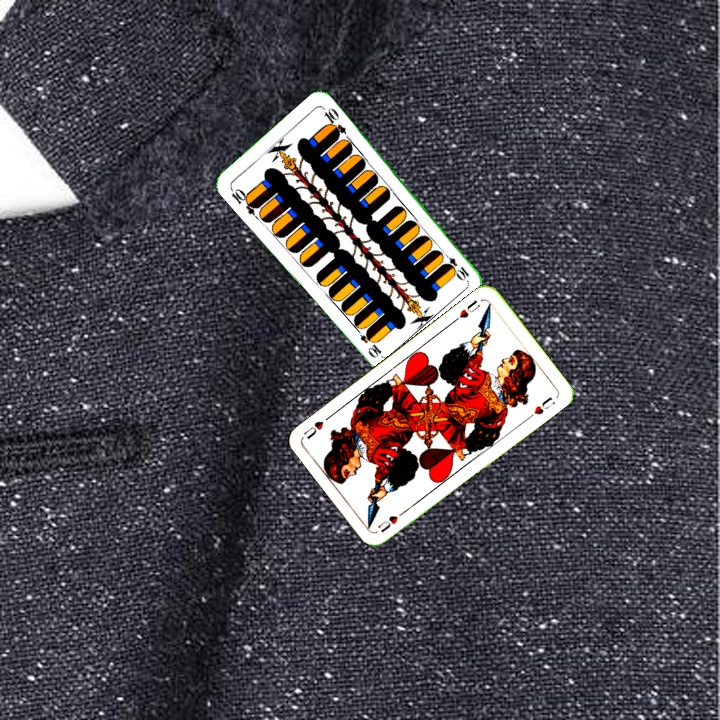E10: (438, 248, 472, 283), (226, 184, 261, 217)
HU: (373, 506, 409, 535), (455, 296, 483, 321)
